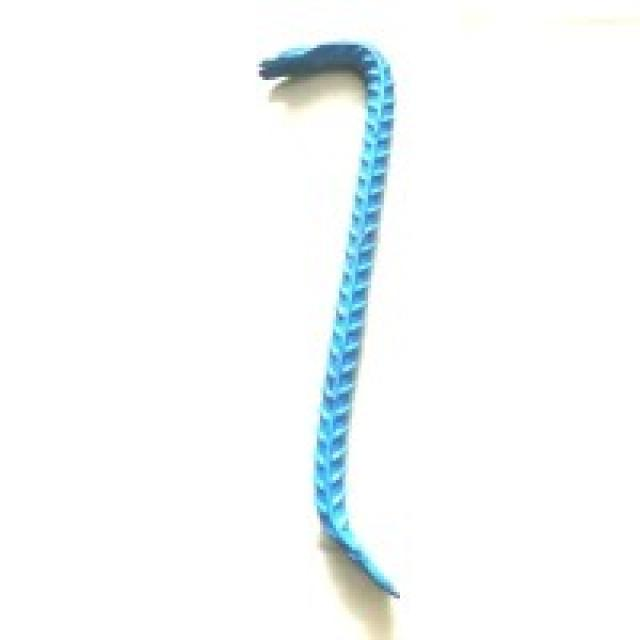Linggis: (243, 29, 414, 608)
